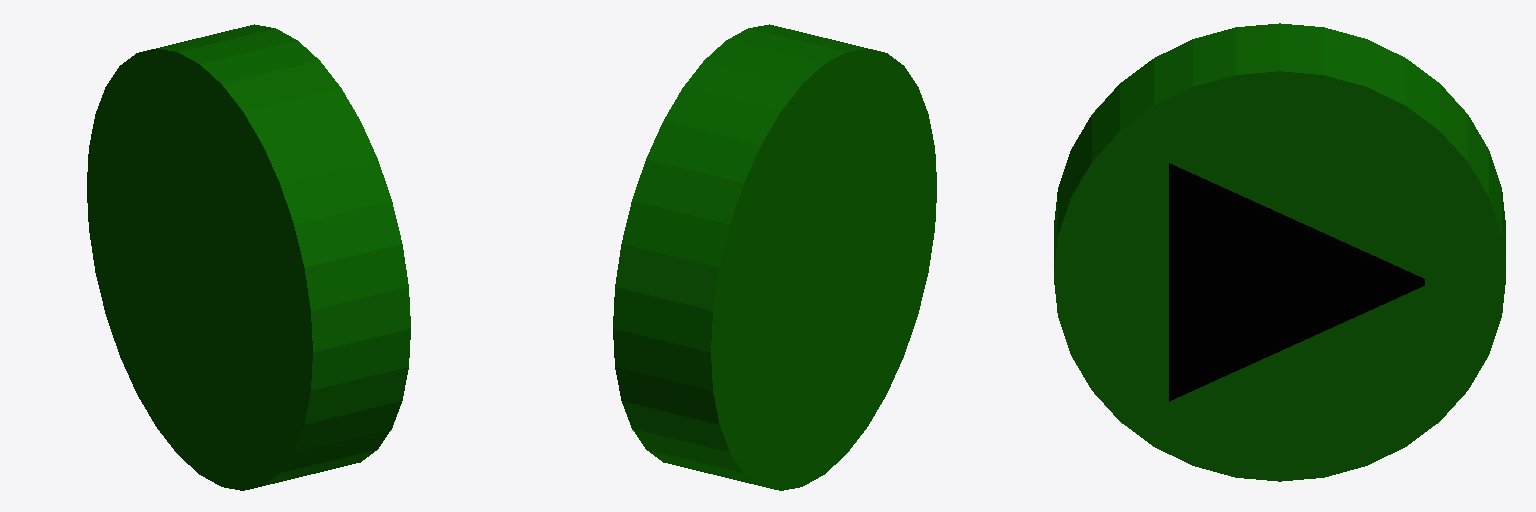
The model's file is aan.obj.
3 views of the same model, side by side, from view 1: azimuth 30°, elevation 25°; view 2: azimuth 150°, elevation 25°; view 3: azimuth 270°, elevation 25° (orthographic).
Visible parts, largest first — view 1: Cube_Cube.001; view 2: Cube_Cube.001; view 3: Cube_Cube.001.
Part boxes in pixels (x1,y1,x2,y2): Cube_Cube.001: (87, 24, 410, 490); Cube_Cube.001: (613, 24, 936, 490); Cube_Cube.001: (1054, 23, 1505, 481).
Size of the model in its own units: 0.5723 by 2 by 2.